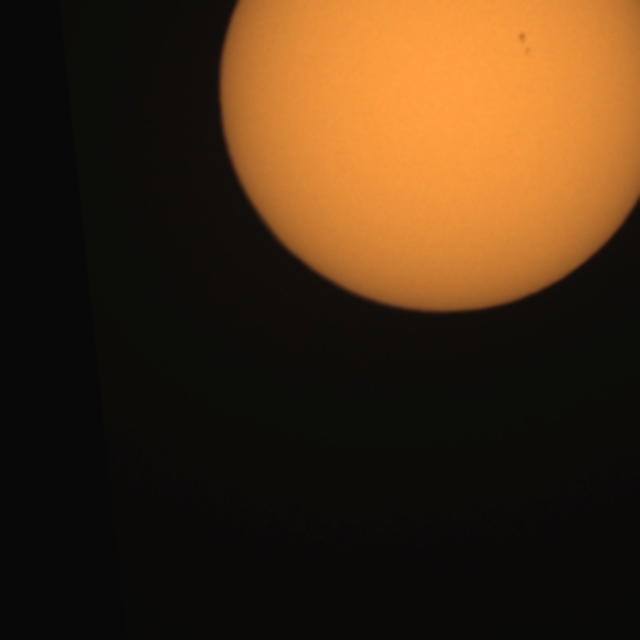sunspot: (516, 30, 532, 58)
